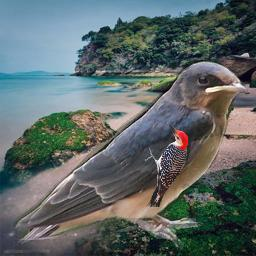Swallow: (13, 60, 248, 250)
Woodpecker: (143, 122, 188, 207)
